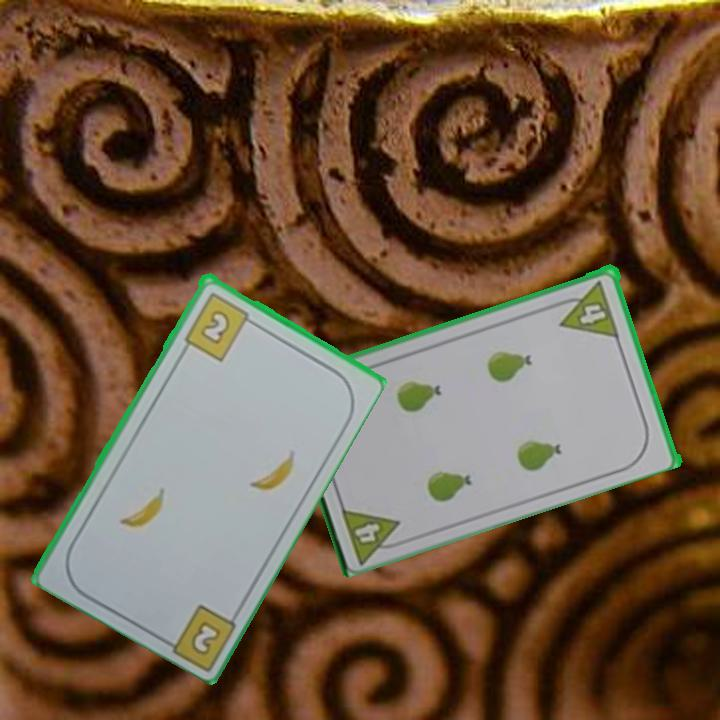2b: (180, 288, 259, 363), (187, 616, 224, 658)
4p: (337, 501, 410, 565), (552, 276, 622, 340)
